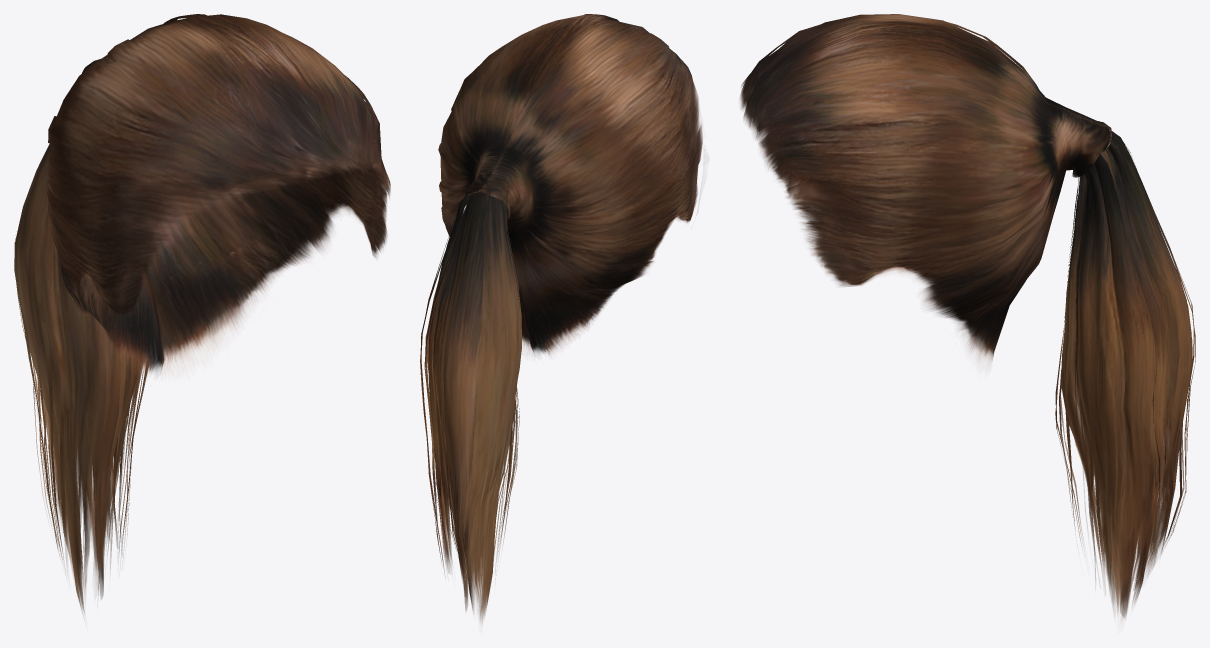
The model's file is hair-female-ponytail01.glb.
The picture shows the model from 3 angles, left to right: view 1: azimuth 30°, elevation 25°; view 2: azimuth 150°, elevation 25°; view 3: azimuth 270°, elevation 25°; orthographic projection. The views are drawn at different scales.
Parts seen in each view (by area): view 1: ponytail01; view 2: ponytail01; view 3: ponytail01.
Boxes of the visible parts, x1,y1,x2,y2 form: ponytail01: (14, 14, 390, 616); ponytail01: (420, 14, 702, 622); ponytail01: (740, 14, 1195, 619).
Bounding box in the file's own units: 0.3152 × 0.7571 × 0.5115.
Materials: 1 (1 with a texture image).
